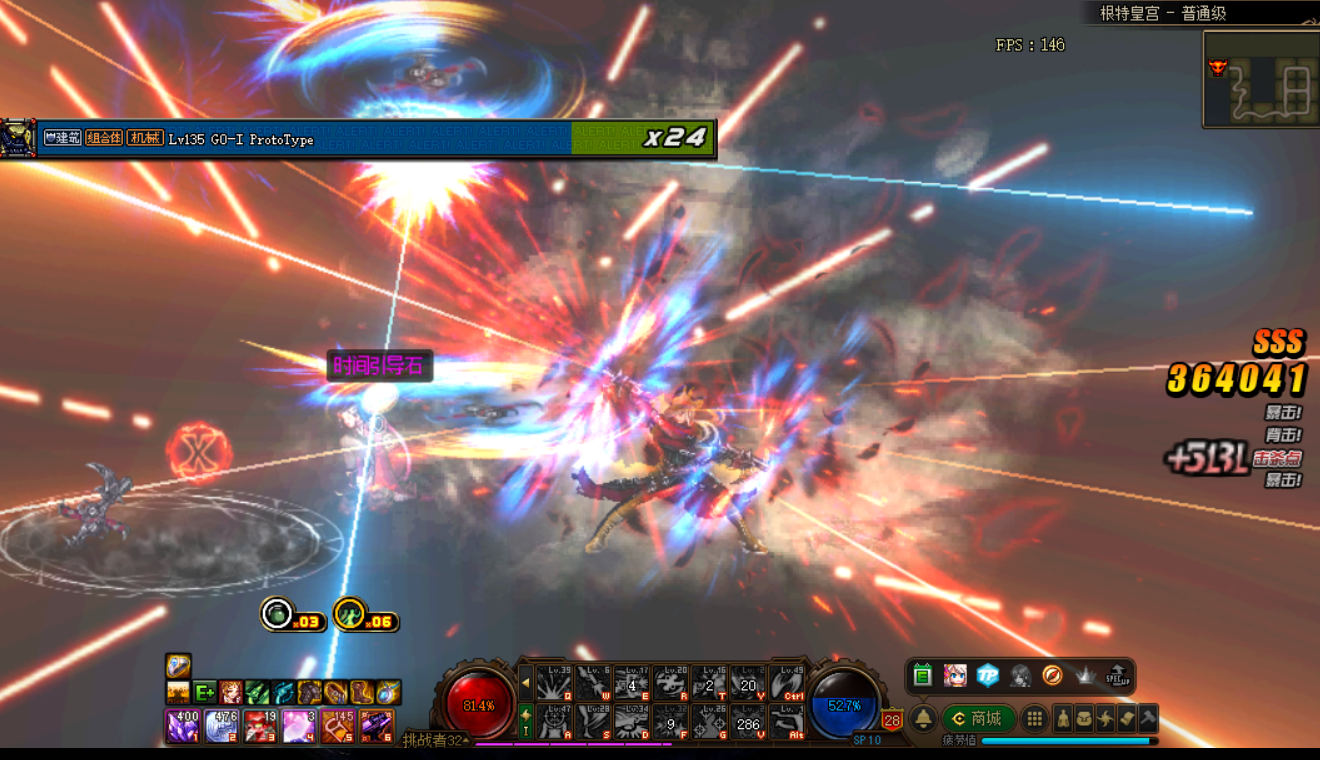warrior: (593, 365, 781, 560)
